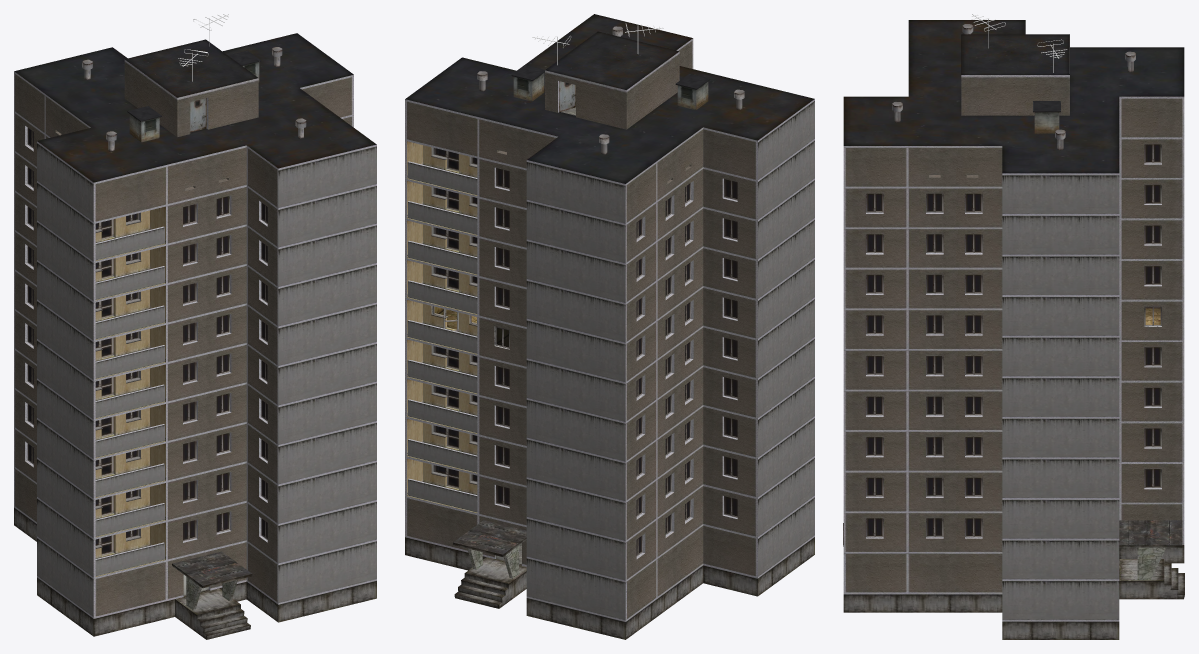
Rendered from panel-house.glb.
The picture shows the model from 3 angles, left to right: view 1: azimuth 30°, elevation 25°; view 2: azimuth 150°, elevation 25°; view 3: azimuth 270°, elevation 25°; orthographic projection. The views are drawn at different scales.
Visible parts, largest first — view 1: Object_2, Object_4; view 2: Object_2, Object_4; view 3: Object_2.
Part boxes in pixels (bbox=[...]): Object_2: bbox=[14, 14, 376, 639]; Object_4: bbox=[95, 167, 165, 221]; Object_2: bbox=[405, 14, 814, 639]; Object_4: bbox=[407, 101, 575, 347]; Object_2: bbox=[843, 14, 1184, 639].
Size of the model in its own units: 17.17 by 28 by 16.17.
Materials: 2 (2 with a texture image).
